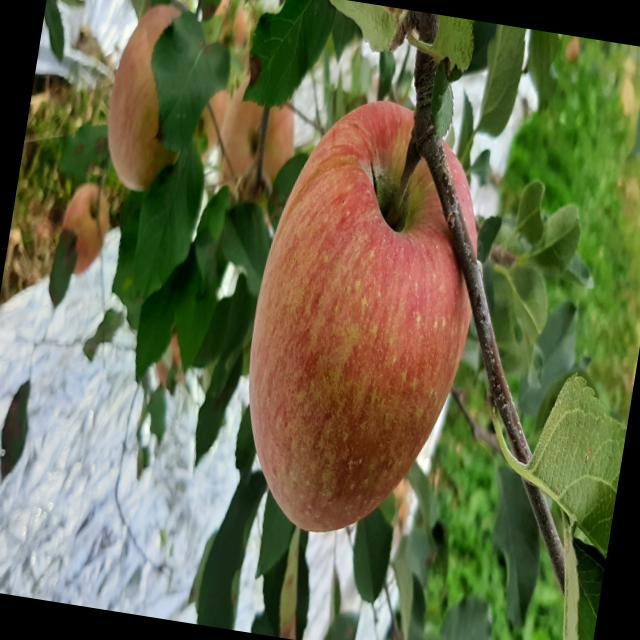fresh: (220, 73, 512, 559)
